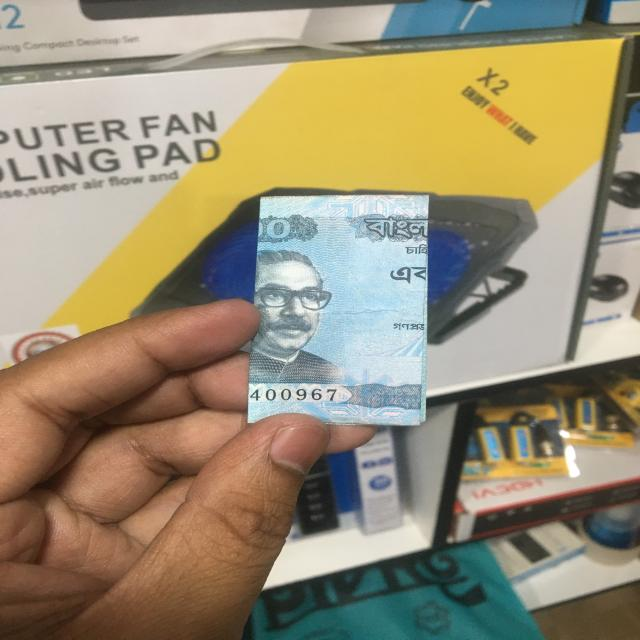Taka: (255, 190, 425, 415)
